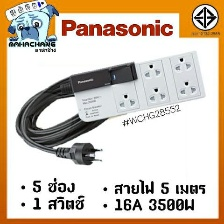three_eye_plug: (68, 45, 208, 124)
